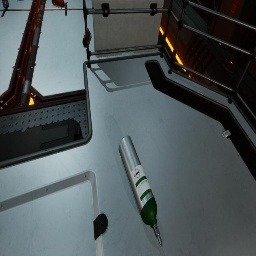0: (119, 136, 162, 247), (3, 0, 7, 6)
FireAlarm ,: (230, 0, 240, 14)
FireExtinguisher ]: (83, 28, 91, 47), (52, 0, 68, 7)
FirstAidBox ,: (18, 0, 23, 0)
